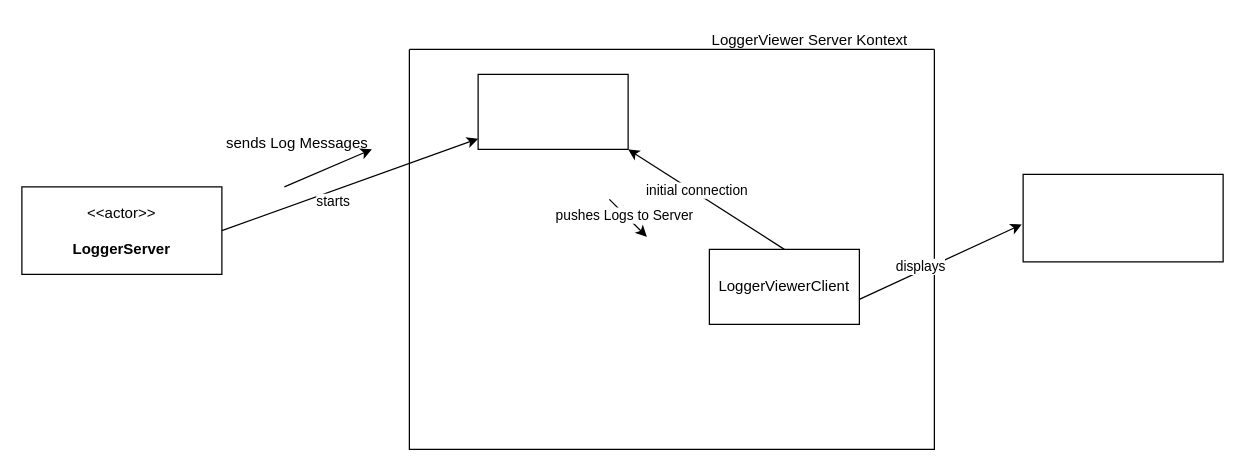
Image size: 1245x471. Some labels were removed from this diagram. The shapes that lost their labels are listed below. From the top down, each one's box as (x1, y1, x2, y2) in pixels, then its label:
(477, 73, 628, 149): LoggerViewerServer
(1022, 173, 1223, 262): <<actor>> CLI
